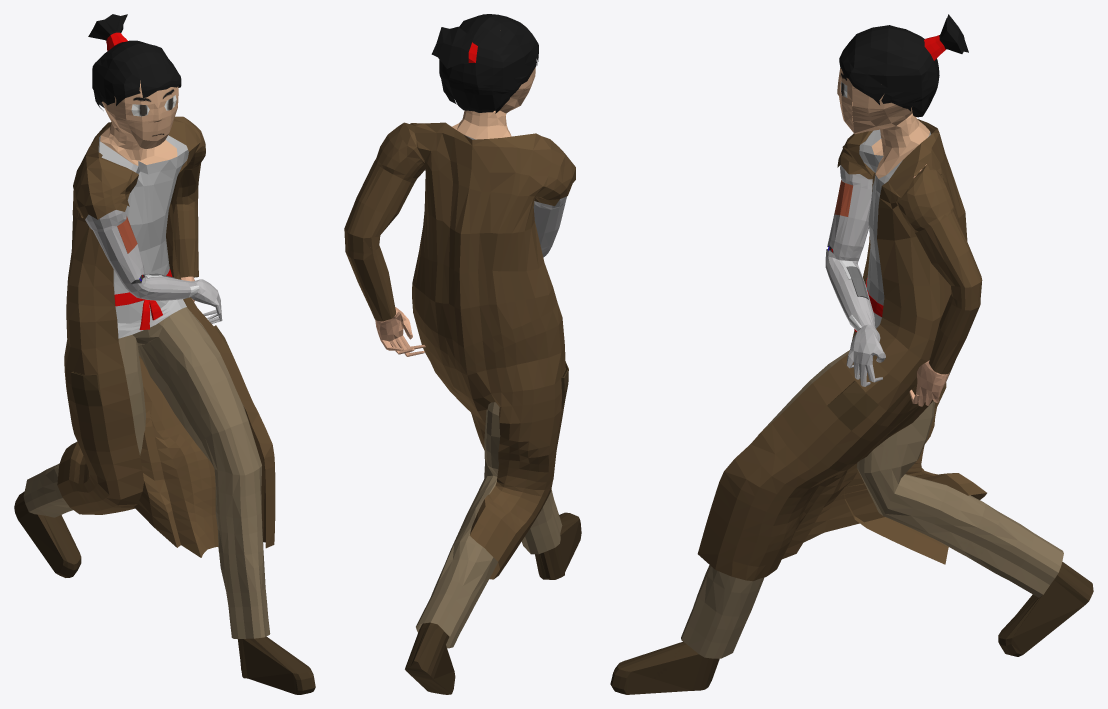
Rendered from One_RB_000009.obj.
The picture shows the model from 3 angles, left to right: view 1: azimuth 30°, elevation 25°; view 2: azimuth 150°, elevation 25°; view 3: azimuth 270°, elevation 25°; orthographic projection. The views are drawn at different scales.
Parts seen in each view (by area): view 1: Hair_Cube.004; view 2: Hair_Cube.004; view 3: Hair_Cube.004.
Boxes of the visible parts, x1,y1,x2,y2 form: Hair_Cube.004: (14, 14, 315, 694); Hair_Cube.004: (344, 14, 581, 694); Hair_Cube.004: (610, 14, 1093, 694).
Bounding box in the file's own units: 1.05 × 3.65 × 2.45.
